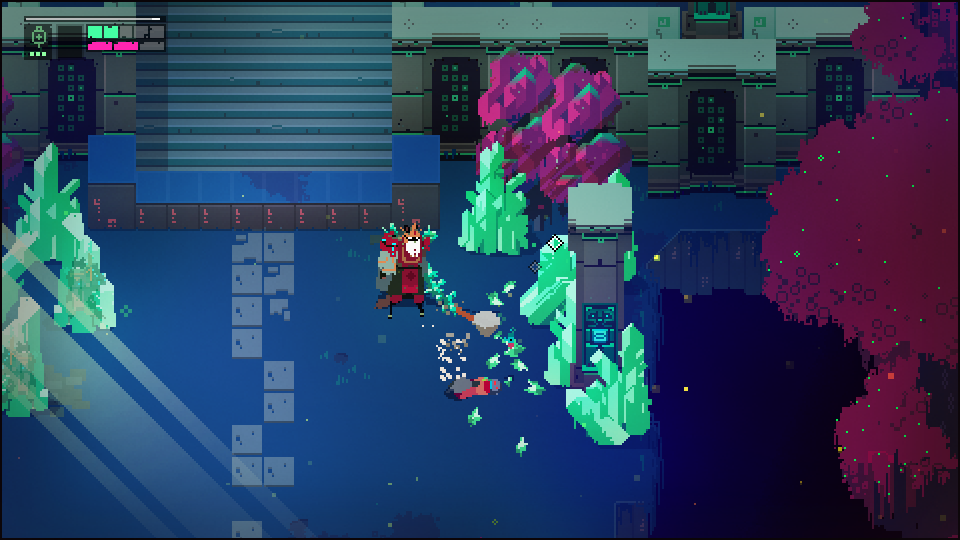hanged_man: (370, 213, 462, 328)
player: (442, 374, 512, 406)
